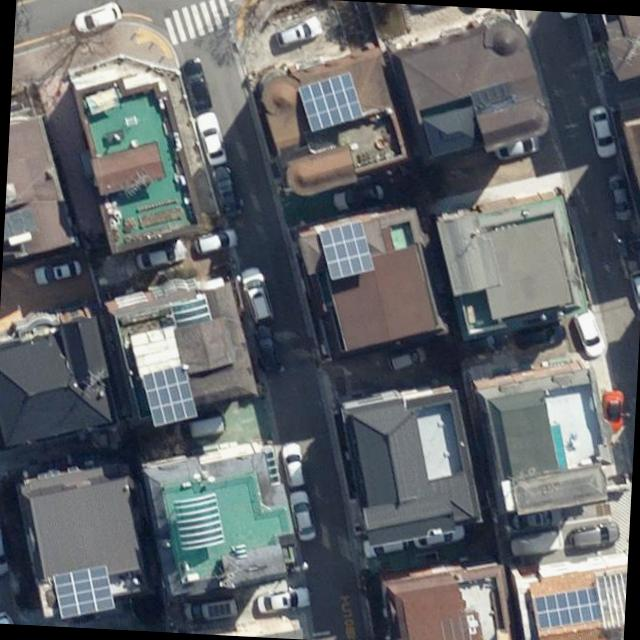solar: (293, 66, 369, 136), (47, 561, 121, 625), (313, 216, 378, 286), (139, 364, 201, 432), (531, 582, 605, 634)
